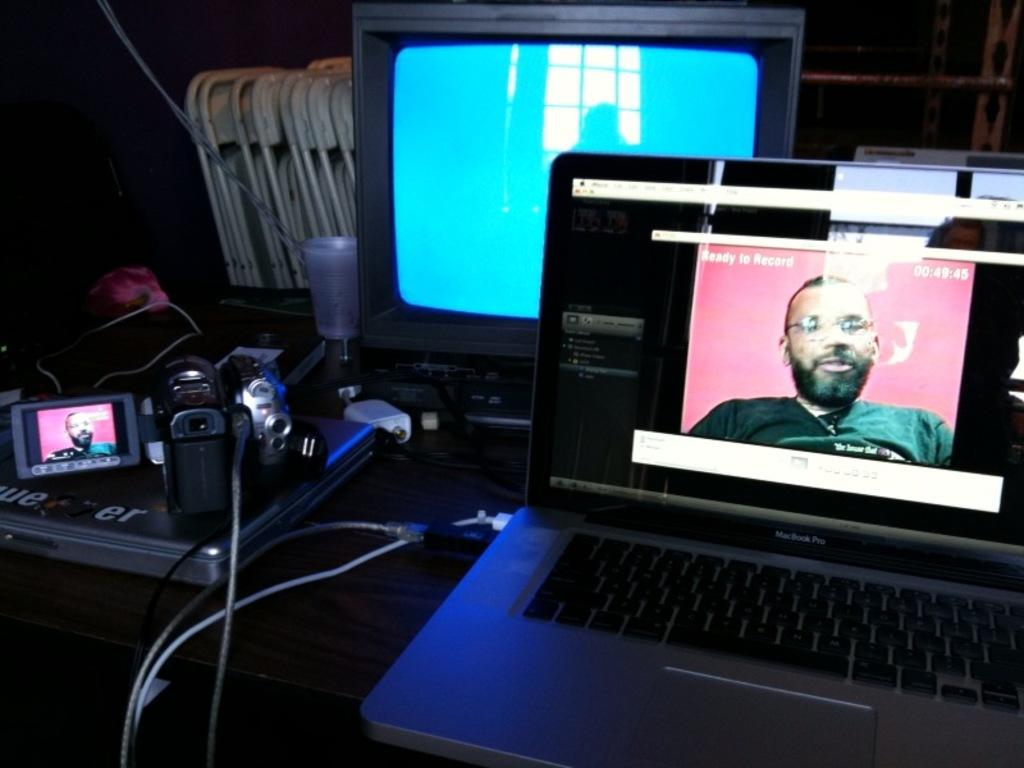Computer-keyboard: (524, 527, 1023, 718)
Computer-monitor: (312, 1, 823, 426)
Laptop: (367, 106, 987, 768)
